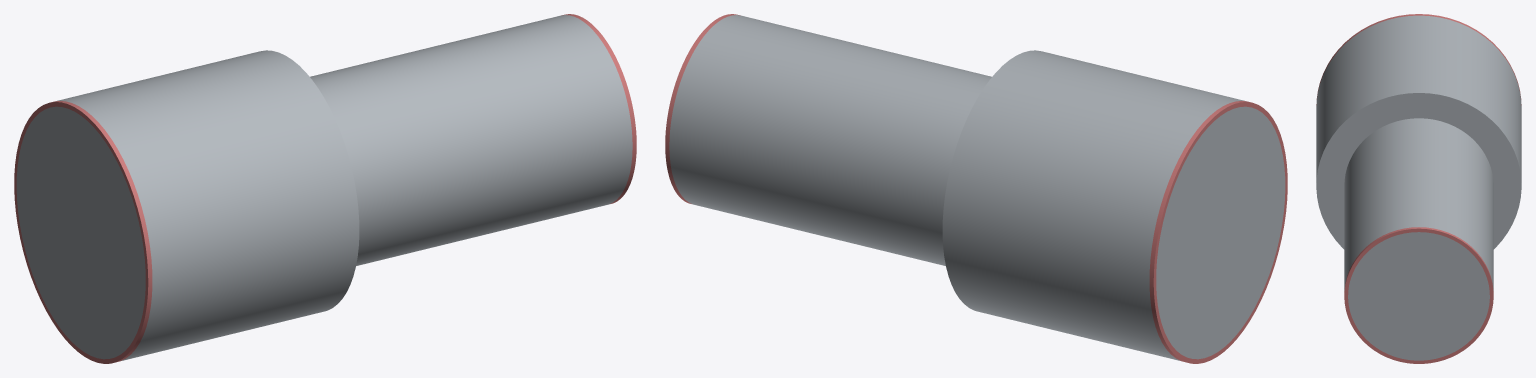
Rendered from step_03.glb.
3 renders of one model, left to right at view 1: azimuth 30°, elevation 25°; view 2: azimuth 150°, elevation 25°; view 3: azimuth 270°, elevation 25°, orthographic. The views are drawn at different scales.
Visible parts, largest first — view 1: part__stepped shaft 120 +/- 2, removed__stepped shaft 120 +/- 2; view 2: part__stepped shaft 120 +/- 2, removed__stepped shaft 120 +/- 2; view 3: part__stepped shaft 120 +/- 2, removed__stepped shaft 120 +/- 2.
Boxes of the visible parts, box(x1,y1,x2,y2) form: part__stepped shaft 120 +/- 2: box(16, 15, 632, 360); removed__stepped shaft 120 +/- 2: box(14, 14, 636, 363); part__stepped shaft 120 +/- 2: box(669, 15, 1285, 360); removed__stepped shaft 120 +/- 2: box(665, 14, 1287, 363); part__stepped shaft 120 +/- 2: box(1316, 15, 1521, 360); removed__stepped shaft 120 +/- 2: box(1316, 14, 1521, 363).
Size of the model in its own units: 120 by 54.97 by 54.98.
